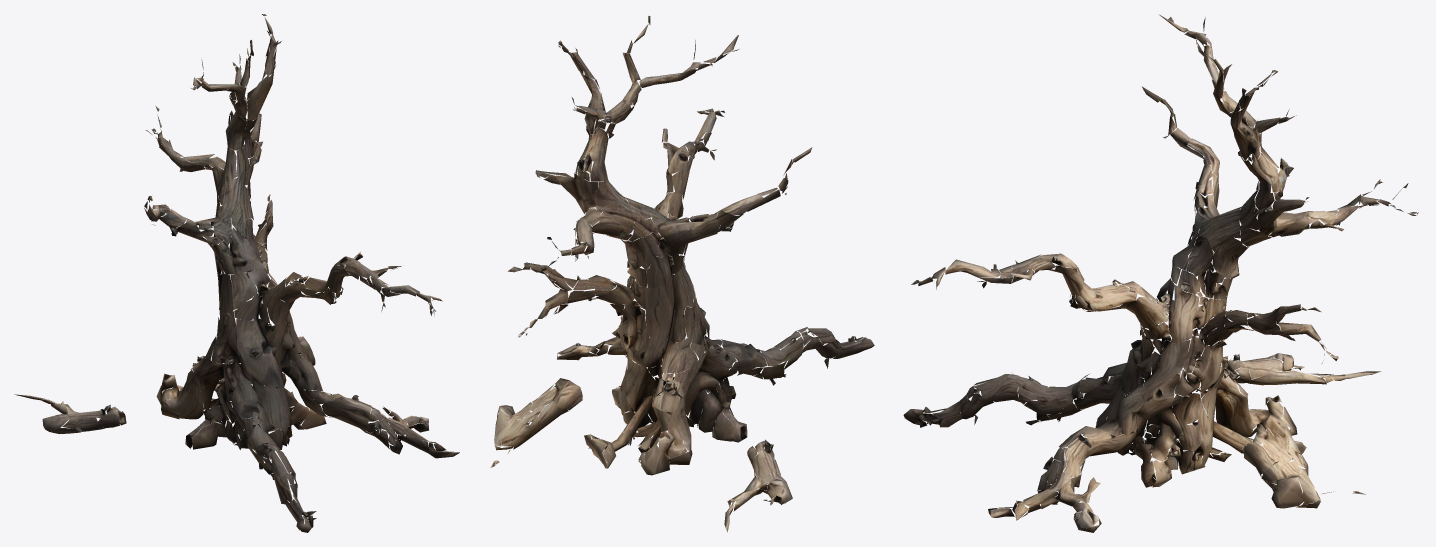
Rendered from dead_tree.glb.
3 renders of one model, left to right at view 1: azimuth 30°, elevation 25°; view 2: azimuth 150°, elevation 25°; view 3: azimuth 270°, elevation 25°, orthographic. The views are drawn at different scales.
Visible parts, largest first — view 1: tripo_node_f92f60c6-6b7f-4084-88f8-9f203a64ef46; view 2: tripo_node_f92f60c6-6b7f-4084-88f8-9f203a64ef46; view 3: tripo_node_f92f60c6-6b7f-4084-88f8-9f203a64ef46.
Boxes of the visible parts, x1,y1,x2,y2 form: tripo_node_f92f60c6-6b7f-4084-88f8-9f203a64ef46: (14, 14, 459, 532); tripo_node_f92f60c6-6b7f-4084-88f8-9f203a64ef46: (490, 16, 874, 532); tripo_node_f92f60c6-6b7f-4084-88f8-9f203a64ef46: (903, 14, 1418, 532).
Bounding box in the file's own units: 0.7246 × 0.8874 × 0.9649.
1 material, 1 textured.
